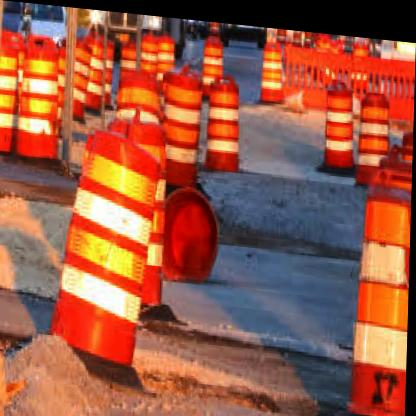obstacle: (47, 136, 166, 361), (204, 71, 244, 170), (324, 69, 357, 163)
